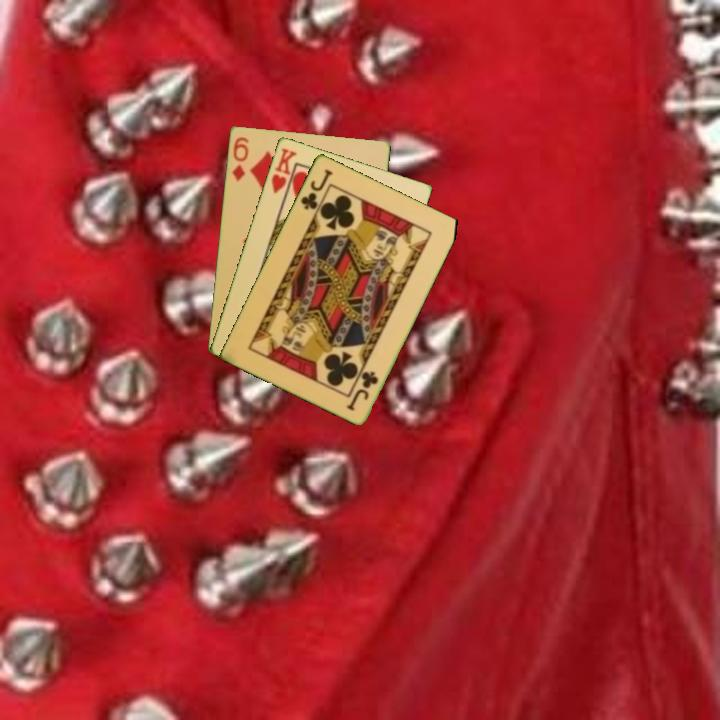6d: (228, 133, 251, 184)
Jc: (297, 165, 335, 213), (344, 367, 381, 413)
Kh: (268, 144, 299, 202)
